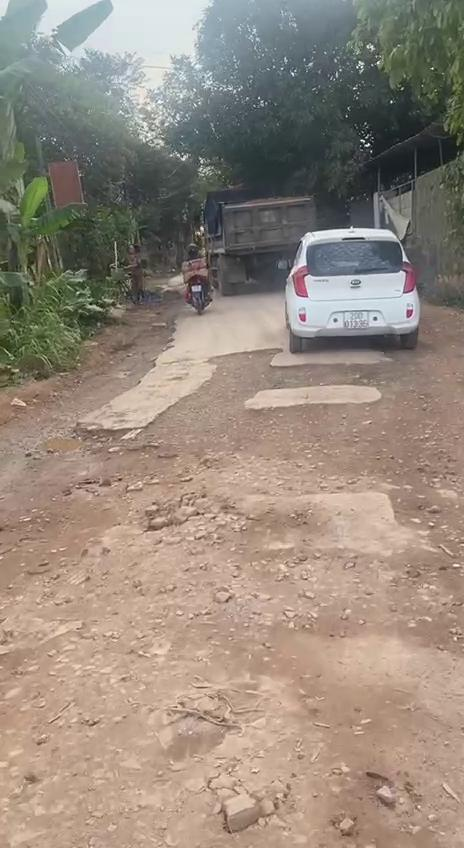pothole: (0, 414, 241, 646), (304, 362, 464, 548), (127, 346, 303, 498)
